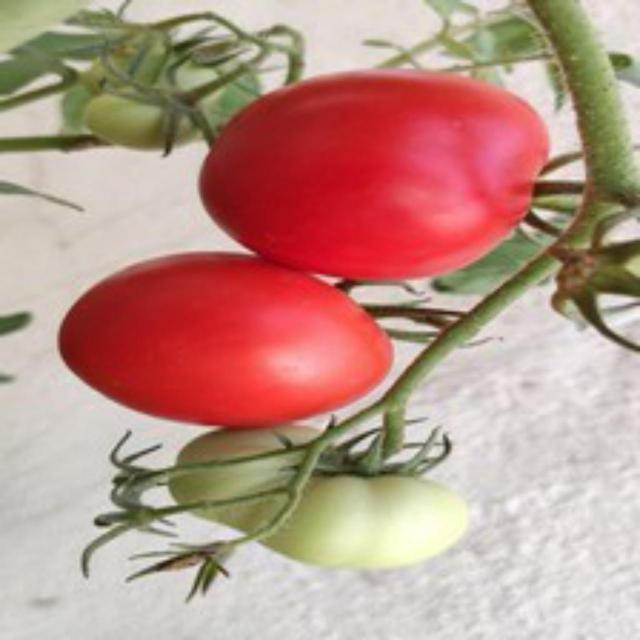tomato: (195, 72, 565, 278), (51, 256, 402, 432)
